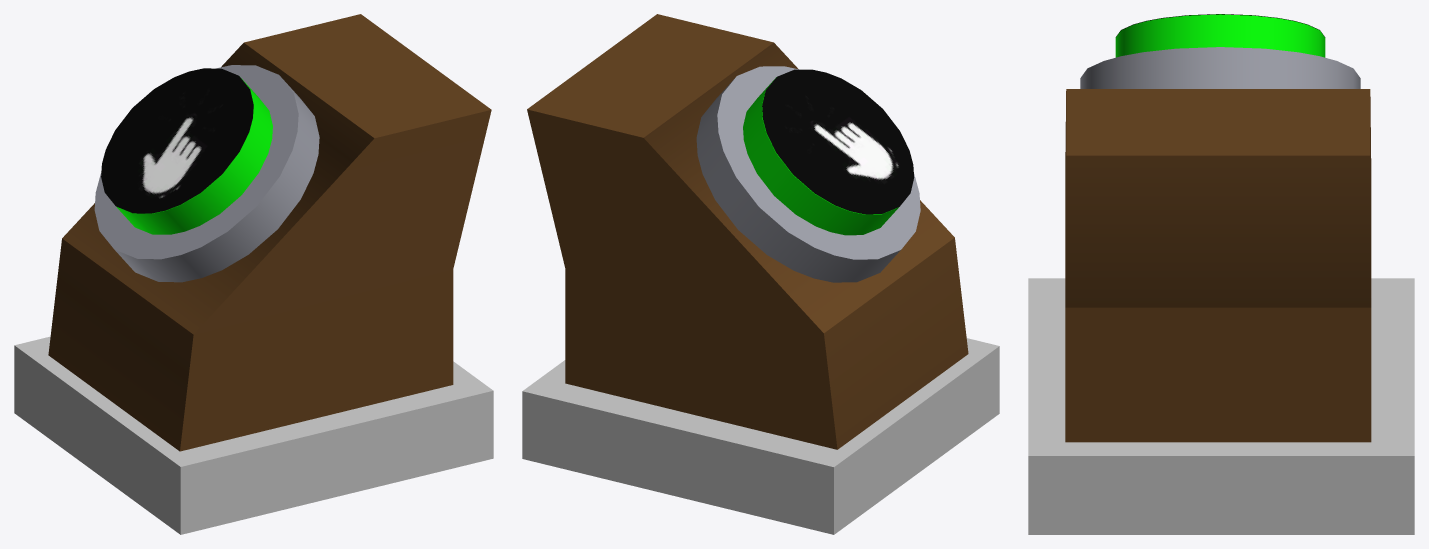
The model's file is anniu2.fbx.
3 views of the same model, side by side, from view 1: azimuth 30°, elevation 25°; view 2: azimuth 150°, elevation 25°; view 3: azimuth 270°, elevation 25° (orthographic). The views are drawn at different scales.
Visible parts, largest first — view 1: anniu2 (×2); view 2: anniu2 (×2); view 3: anniu2 (×2).
Part boxes in pixels (<box>): anniu2 (×2): <box>14,14,493,534</box>; anniu2 (×2): <box>522,14,999,534</box>; anniu2 (×2): <box>1028,14,1414,534</box>.
Bounding box in the file's own units: 178 × 191 × 157.
